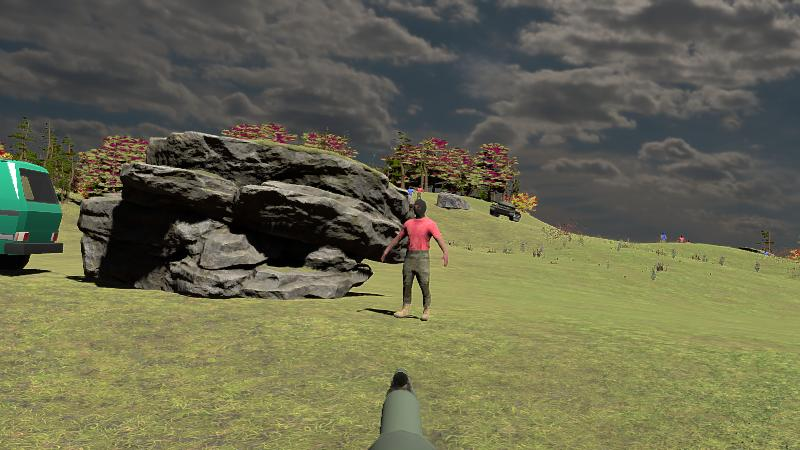Human: (381, 200, 448, 321)
Tank: (489, 199, 524, 222)
car: (0, 156, 63, 275)
